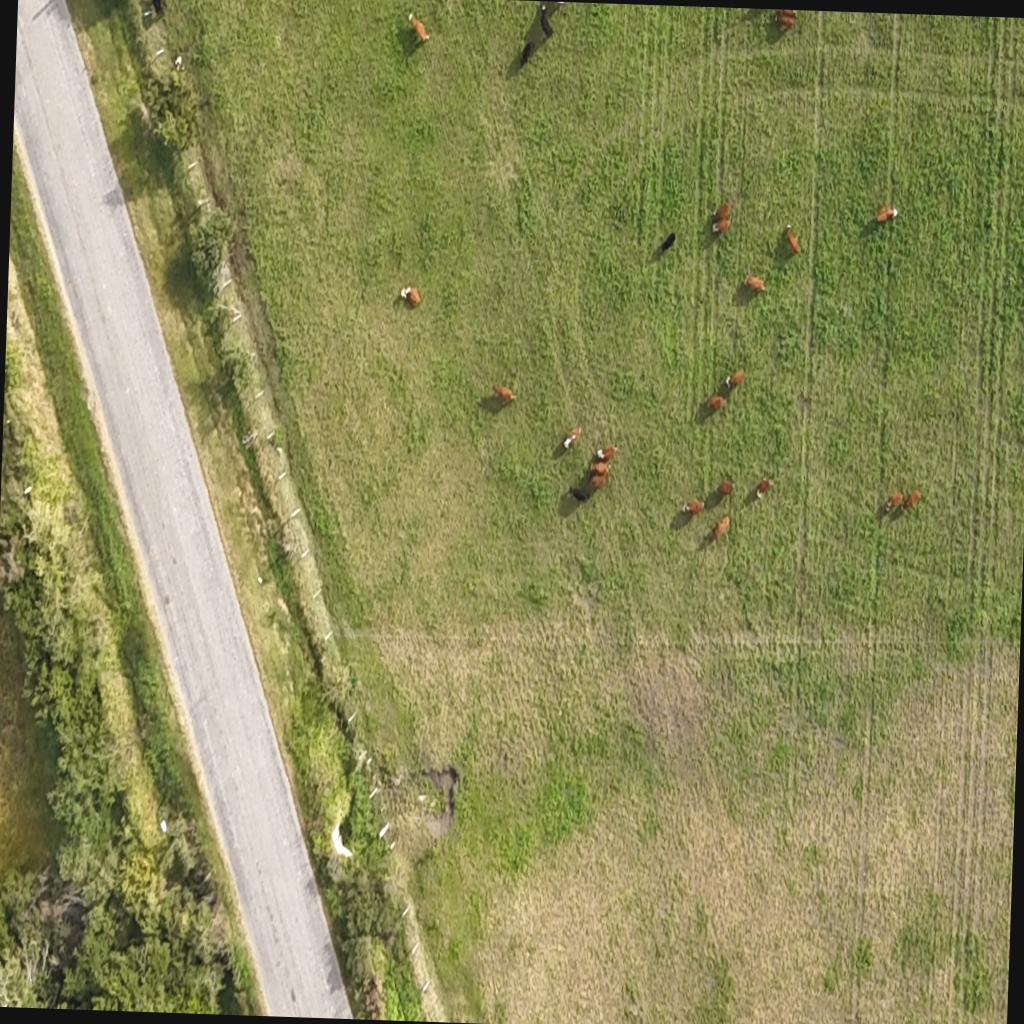cow: (486, 382, 518, 412), (562, 481, 591, 510), (406, 12, 430, 46), (708, 513, 730, 544), (537, 4, 554, 40), (783, 224, 801, 256), (656, 230, 676, 258), (774, 8, 796, 32), (710, 217, 732, 240), (724, 369, 746, 392), (584, 472, 612, 490), (400, 284, 421, 308), (680, 498, 705, 518), (562, 424, 580, 451), (594, 442, 618, 462), (900, 490, 920, 514), (743, 273, 765, 293), (876, 204, 898, 224), (886, 490, 904, 514), (714, 199, 730, 226), (588, 459, 612, 476), (754, 478, 772, 500), (520, 40, 534, 67), (706, 393, 725, 412), (716, 480, 734, 500), (149, 0, 164, 17)
